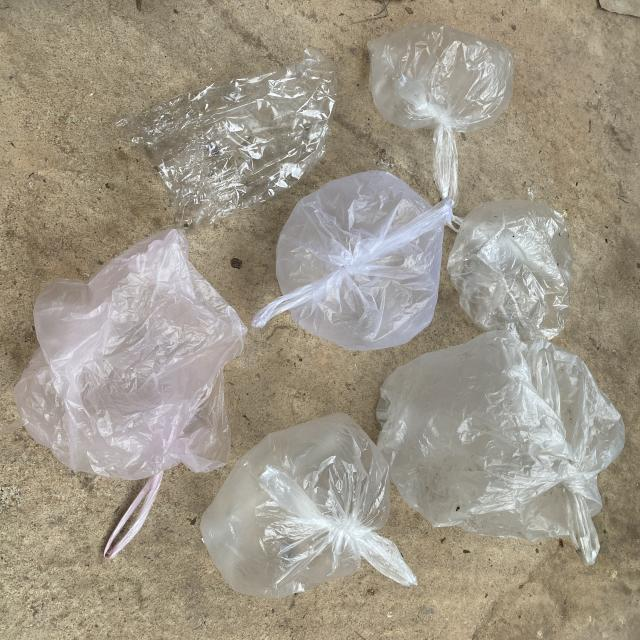Single-layer Plastic: (14, 229, 246, 559), (376, 330, 625, 565), (201, 412, 418, 599), (118, 49, 336, 229), (252, 171, 452, 350), (368, 22, 514, 206), (448, 200, 572, 341)
